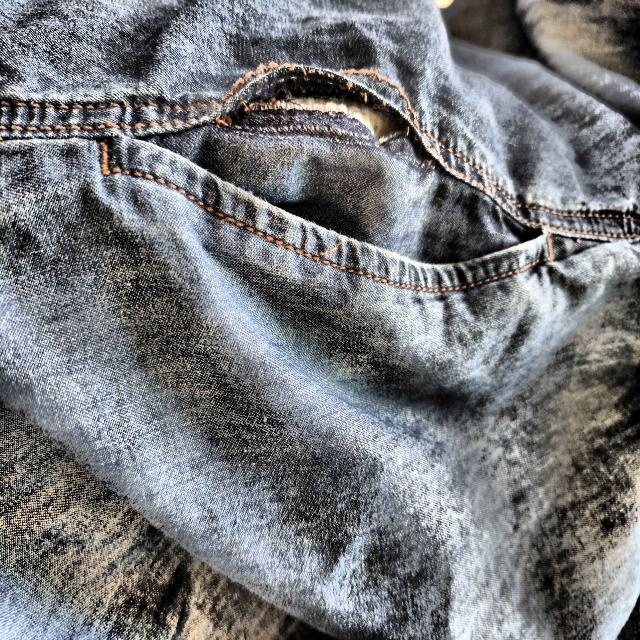seam: (191, 21, 451, 199), (489, 200, 559, 256)
